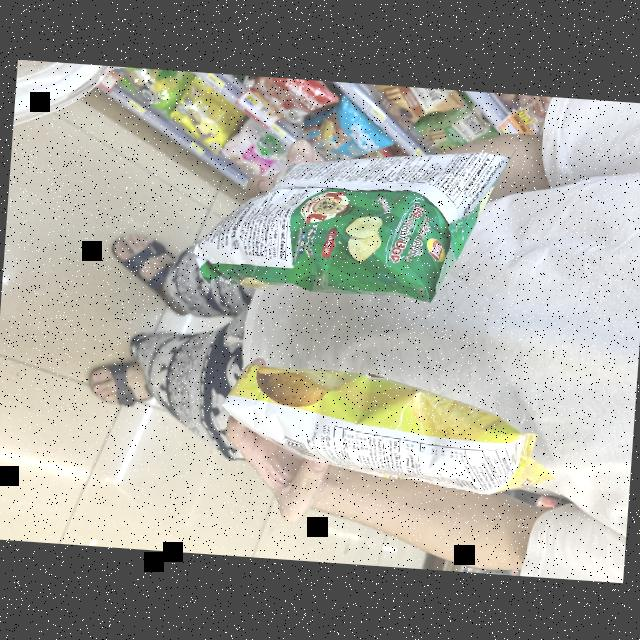snack_bag: (178, 117, 503, 315), (210, 342, 560, 498)
